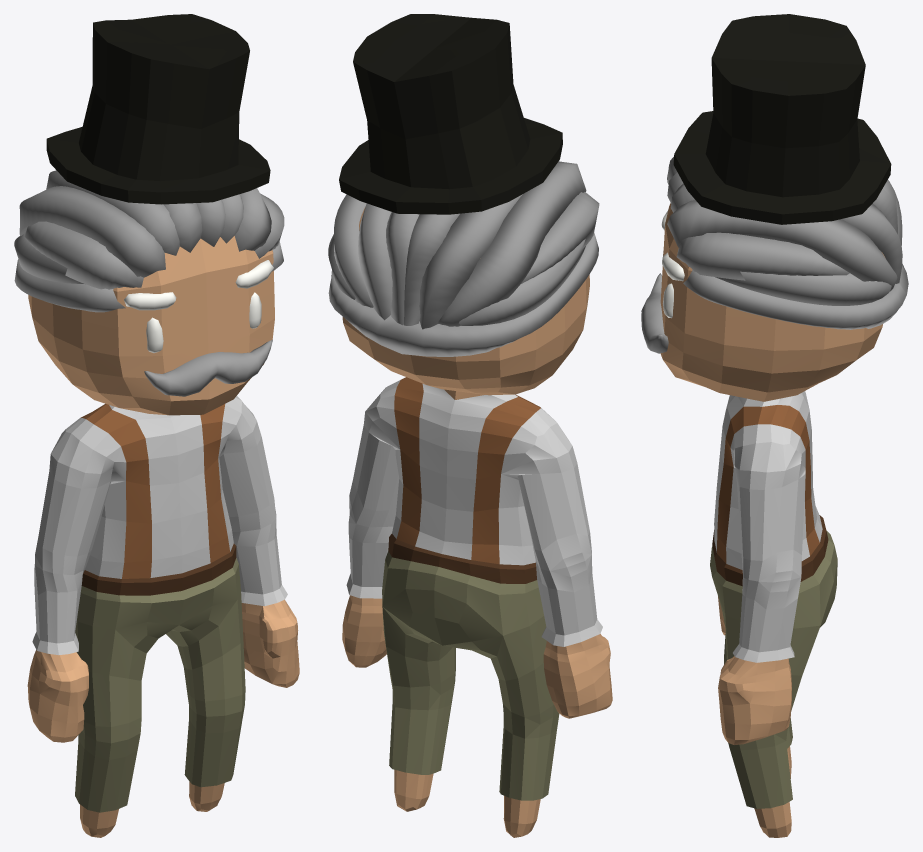
The model's file is debout-oldclassy-male.glb.
3 renders of one model, left to right at view 1: azimuth 30°, elevation 25°; view 2: azimuth 150°, elevation 25°; view 3: azimuth 270°, elevation 25°, orthographic.
Visible parts, largest first — view 1: Cube004, Cube004_2, Cube004_6, Cube004_1, Cube004_7, Cube004_3, Cube004_4, Cube004_5; view 2: Cube004_7, Cube004_2, Cube004_6, Cube004_1, Cube004, Cube004_3, Cube004_4; view 3: Cube004_6, Cube004_7, Cube004, Cube004_2, Cube004_1, Cube004_3, Cube004_4, Cube004_5.
Boxes of the visible parts, x1,y1,x2,y2 form: Cube004: (27, 236, 299, 837); Cube004_2: (32, 396, 287, 655); Cube004_6: (46, 14, 270, 204); Cube004_1: (75, 558, 245, 812); Cube004_7: (14, 170, 284, 396); Cube004_3: (80, 403, 229, 578); Cube004_4: (81, 543, 236, 595); Cube004_5: (124, 260, 273, 352); Cube004_7: (328, 161, 599, 356); Cube004_2: (346, 380, 602, 646); Cube004_6: (339, 14, 562, 214); Cube004_1: (382, 551, 559, 800); Cube004: (342, 207, 612, 837); Cube004_3: (394, 377, 540, 564); Cube004_4: (388, 534, 536, 583); Cube004_6: (673, 14, 891, 224); Cube004_7: (641, 157, 908, 353); Cube004: (660, 203, 884, 837); Cube004_2: (714, 391, 822, 662); Cube004_1: (710, 530, 837, 808); Cube004_3: (717, 405, 819, 563); Cube004_4: (712, 515, 828, 586); Cube004_5: (661, 210, 684, 318).
Size of the model in its own units: 0.5849 by 1.69 by 0.5245.
